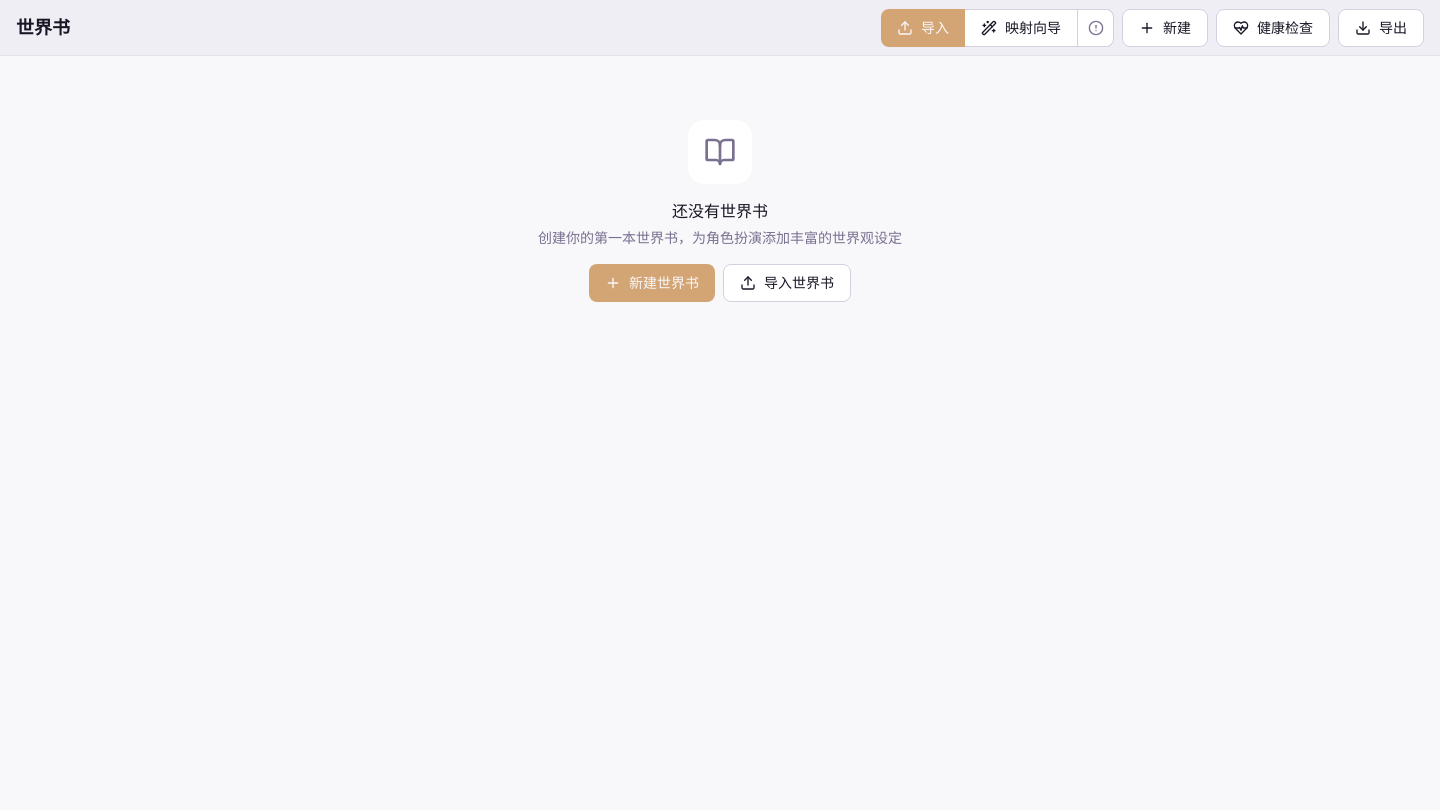
Test: LorebookPage › 导入后展示 adapter 格式、置信度和兼容性摘要
Step 1. Click the button "导入" → (923, 28), box [881,8,965,46]
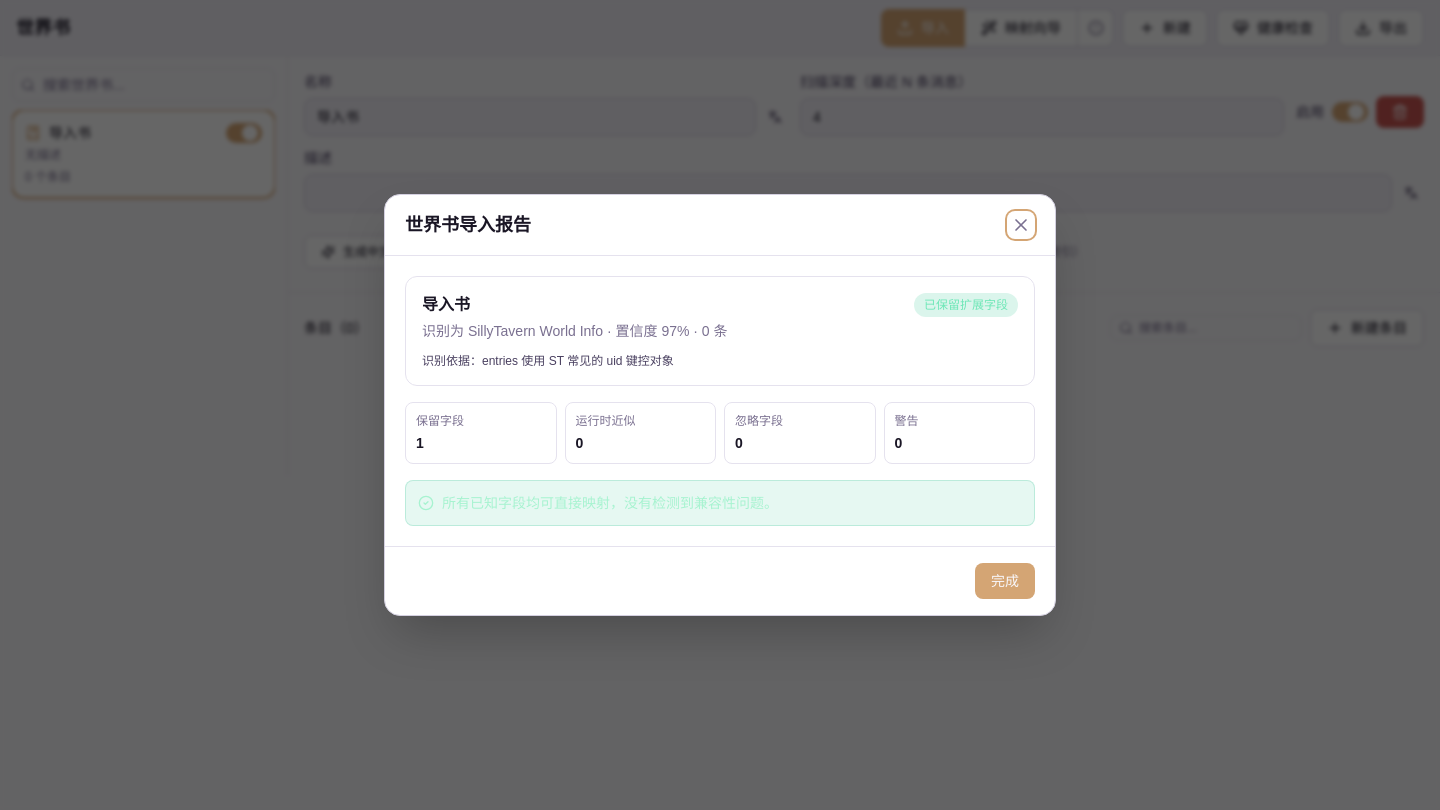
Expected: the dialog "世界书导入报告" is shown, [384,194,1056,616]
Expected: the text "识别为 SillyTavern World Info · 置信度 97% · 0 条" is shown, [422,321,728,341]
Expected: the text "已保留扩展字段" is shown, [914,293,1018,317]
